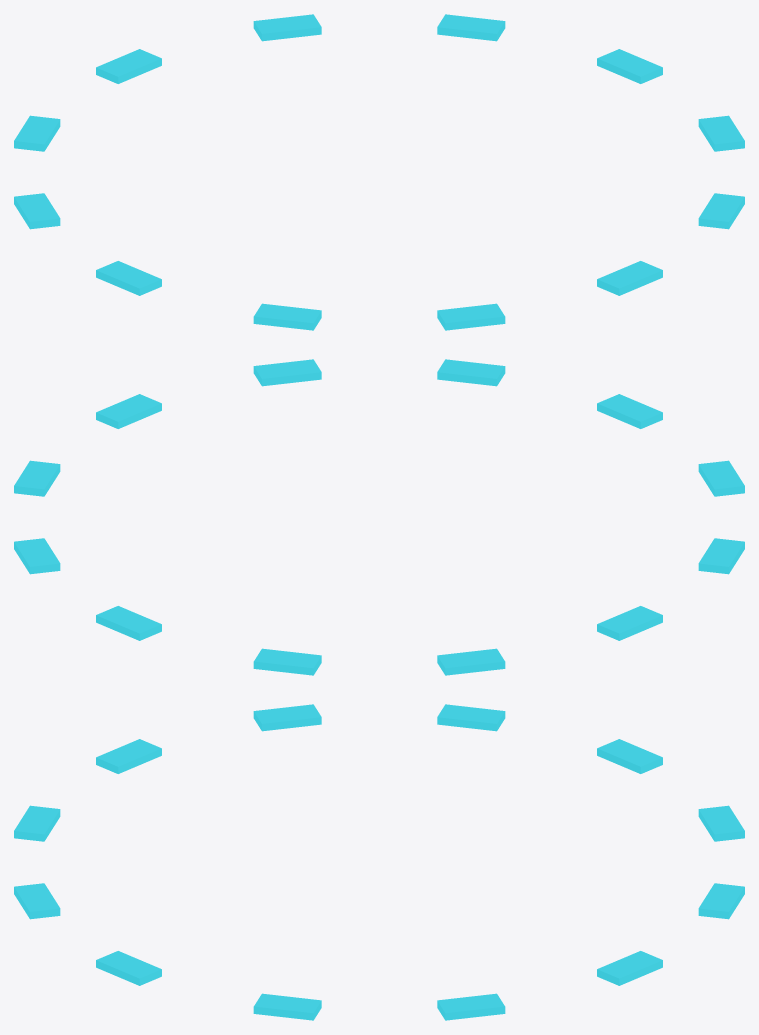
The model's file is Plarform_light_L.glb.
3 views of the same model, one above another, from view 1: azimuth 30°, elevation 25°; view 2: azimuth 150°, elevation 25°; view 3: azimuth 270°, elevation 25° (orthographic).
Parts seen in each view (by area): view 1: Plat_Rim_1; view 2: Plat_Rim_1; view 3: Plat_Rim_1.
Part boxes in pixels (x1,y1,x2,y2): Plat_Rim_1: (14,14,744,330); Plat_Rim_1: (14,359,744,675); Plat_Rim_1: (14,704,744,1020).
Bounding box in the file's own units: 4.07 × 0.0456 × 4.07.
